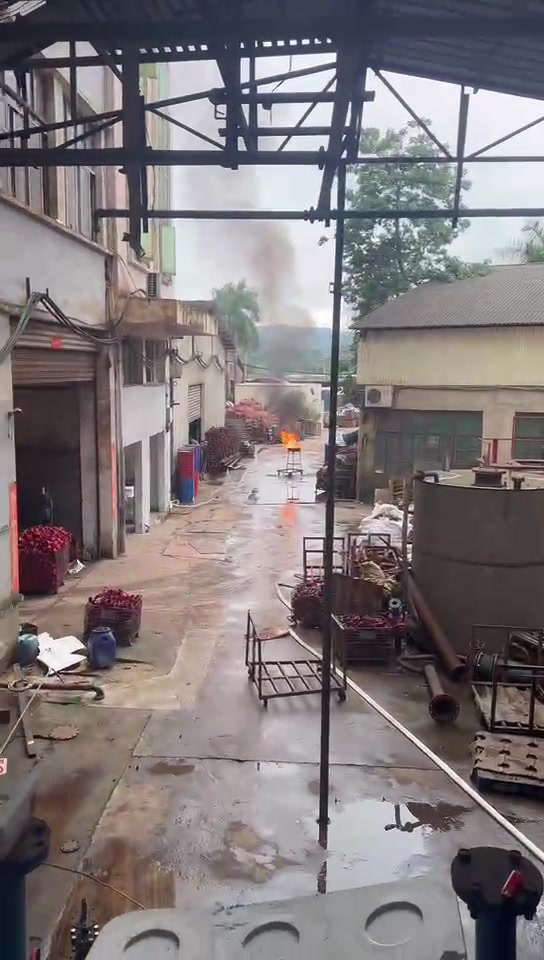fire: (280, 428, 299, 447)
